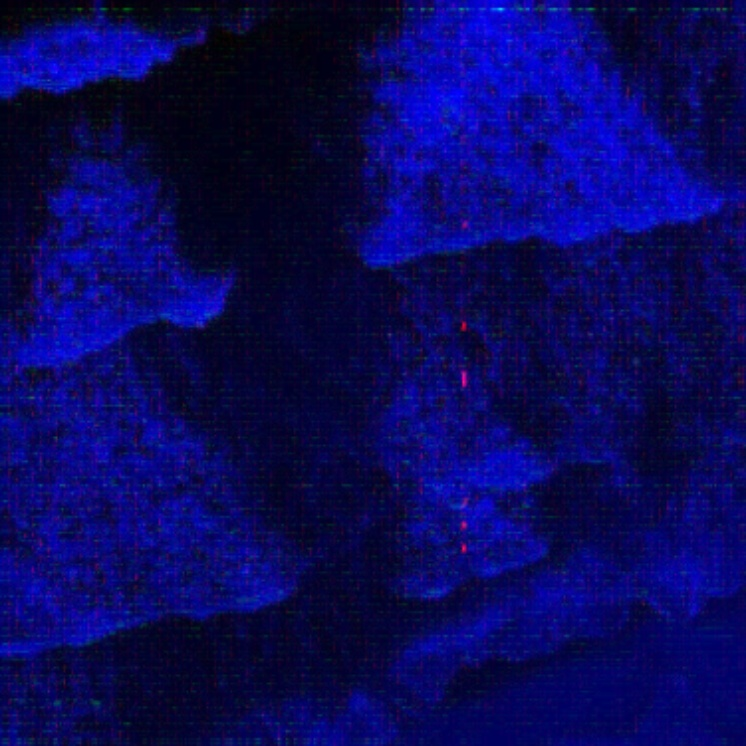rip_current: (108, 155, 452, 627)
